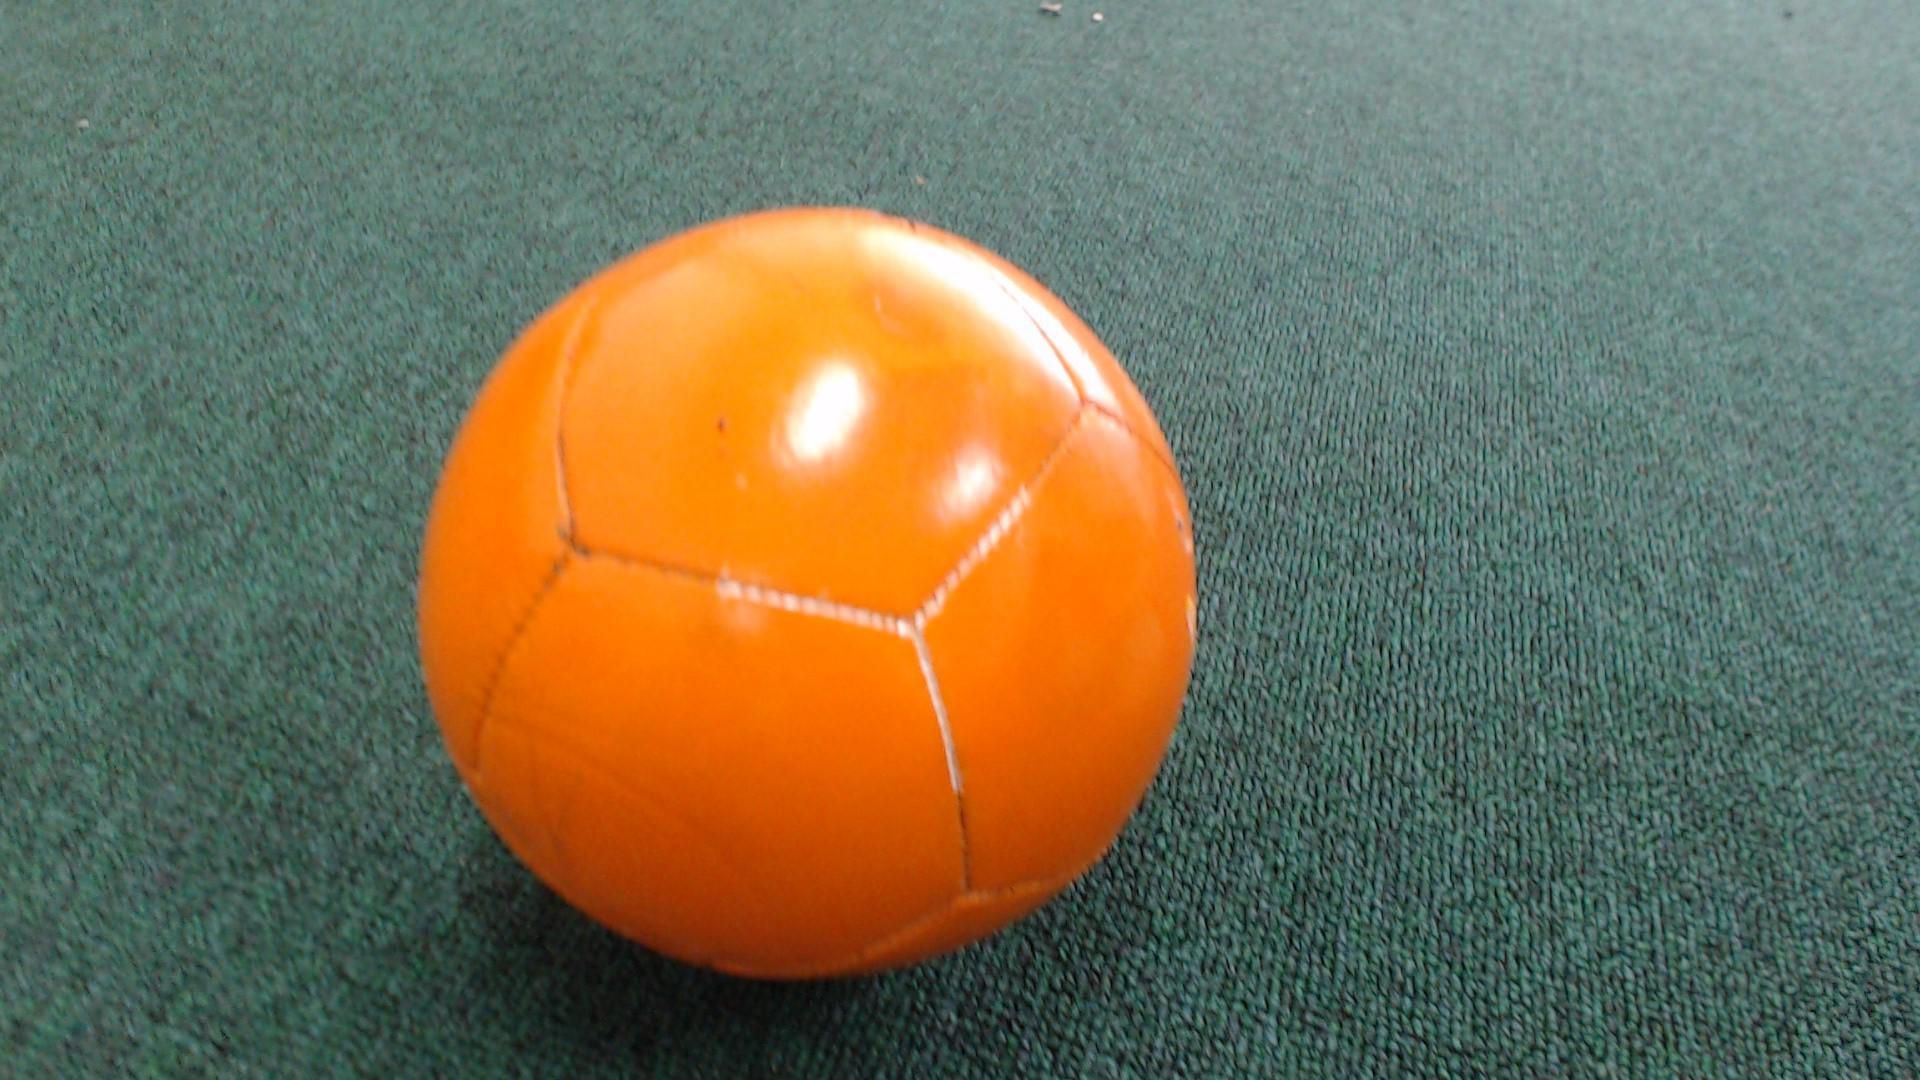bola: (361, 149, 1284, 1036)
